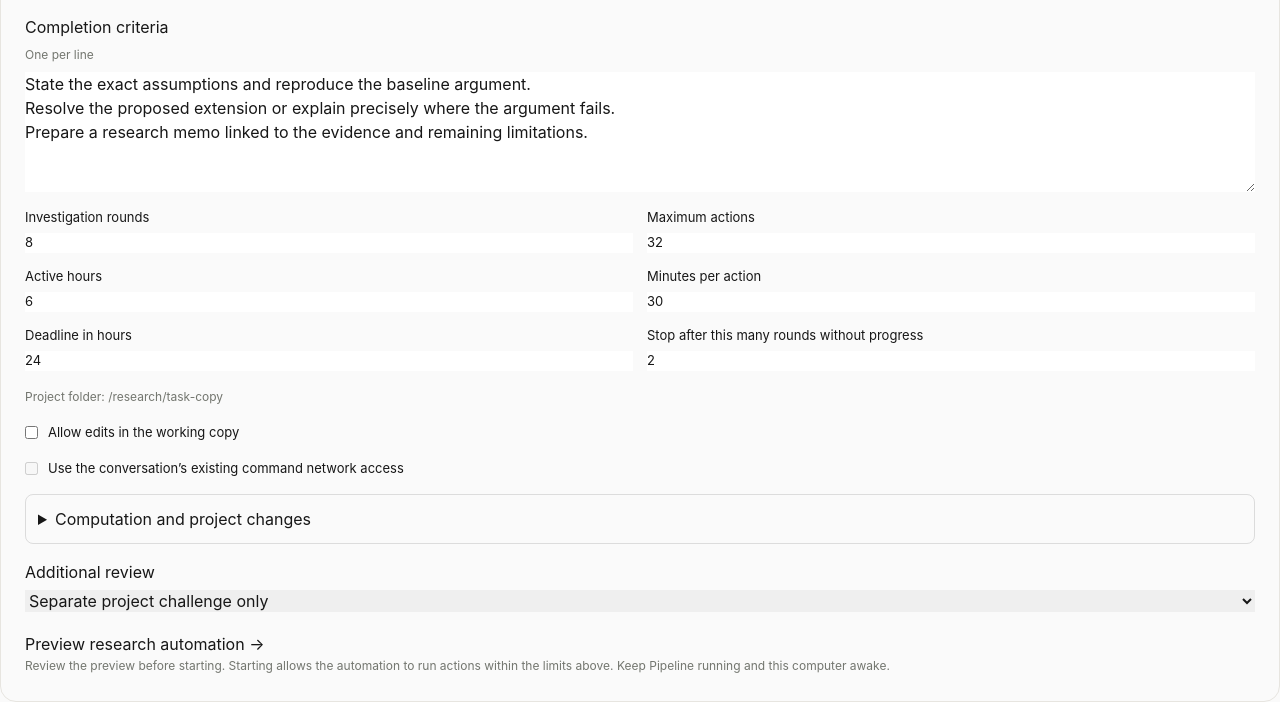
it: does not allow host computations through an isolated task conversation
(page scrolled)
Expected: the button "Preview research automation →" is enabled, [25,632,264,656]
Click the heading "Computation and project changes": (183, 519) [55,509,311,529]
(page scrolled)
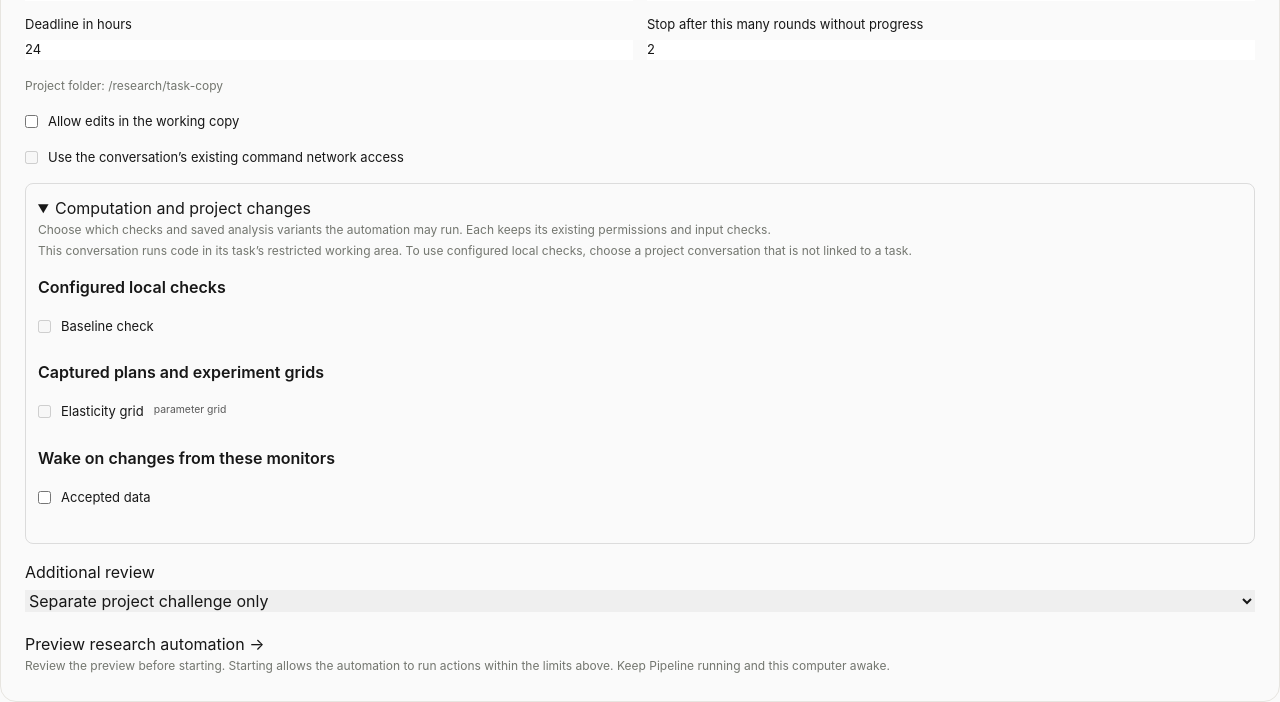
Expected: the checkbox labelled "Baseline check" is disabled, [38,320,51,333]
Expected: the checkbox labelled "Elasticity grid parameter grid" is disabled, [38,406,51,418]
